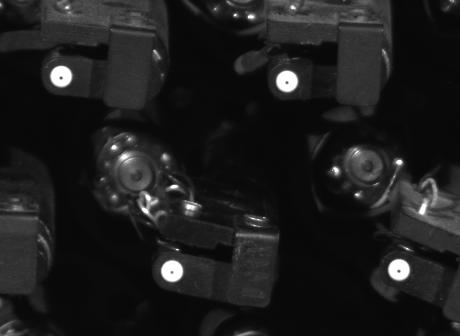fiber: (155, 254, 192, 287), (381, 253, 415, 284), (46, 61, 78, 92), (272, 65, 304, 96)
